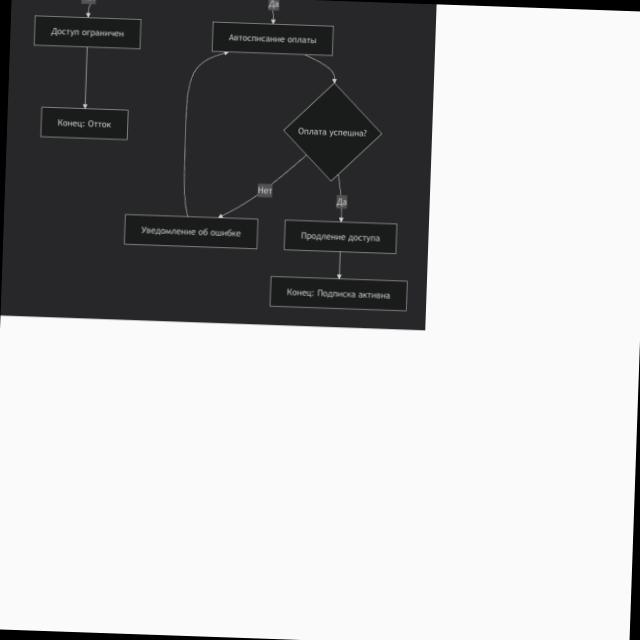arrow: (168, 48, 228, 216), (216, 150, 306, 218), (298, 54, 342, 83), (78, 48, 94, 108), (333, 174, 348, 222), (334, 253, 344, 279)
diamond: (285, 85, 381, 180)
rectangle: (270, 277, 407, 311), (125, 215, 258, 249), (212, 22, 334, 55), (285, 220, 397, 254), (34, 15, 141, 49), (41, 107, 128, 140)
text_region: (331, 192, 355, 209), (252, 184, 276, 198), (263, 0, 285, 9)
